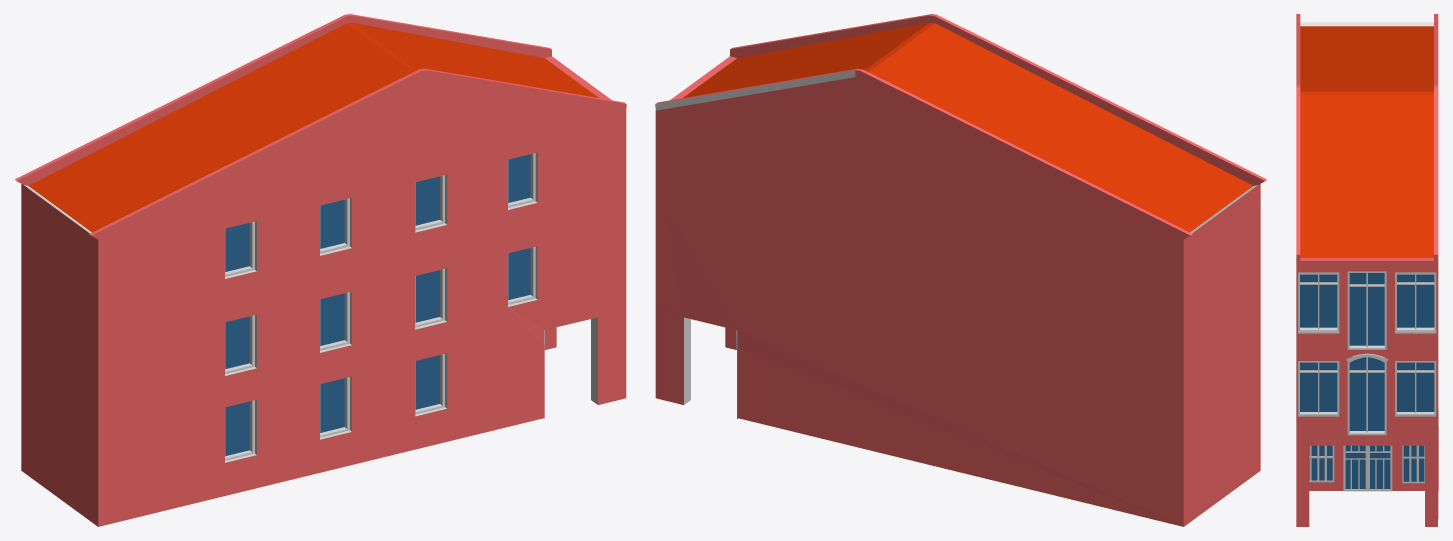
The model's file is house8.fbx.
3 renders of one model, left to right at view 1: azimuth 30°, elevation 25°; view 2: azimuth 150°, elevation 25°; view 3: azimuth 270°, elevation 25°, orthographic. The views are drawn at different scales.
Visible parts, largest first — view 1: house8; view 2: house8; view 3: house8.
Boxes of the visible parts, left/top/right/bottom form: house8: left=14, top=14, right=626, bottom=526; house8: left=655, top=14, right=1267, bottom=526; house8: left=1296, top=14, right=1438, bottom=526.
Bounding box in the file's own units: 1208 × 814 × 301.
